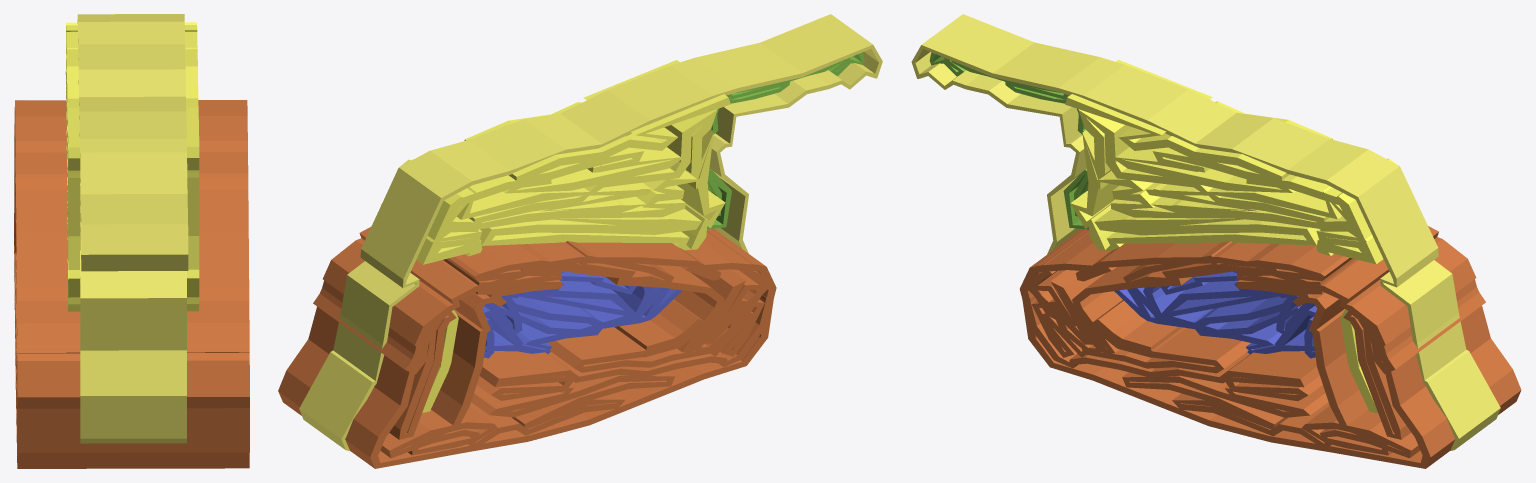
3 views of the same model, side by side, from view 1: azimuth 30°, elevation 25°; view 2: azimuth 150°, elevation 25°; view 3: azimuth 270°, elevation 25° (orthographic). The views are drawn at different scales.
Parts seen in each view (by area): view 1: 5; view 2: 5; view 3: 5.
Boxes of the visible parts, bbox=[...] form: 5: bbox=[14, 14, 249, 468]; 5: bbox=[278, 14, 882, 468]; 5: bbox=[911, 14, 1521, 468].
Bounding box in the file's own units: 0.6562 × 0.4919 × 0.9395.
